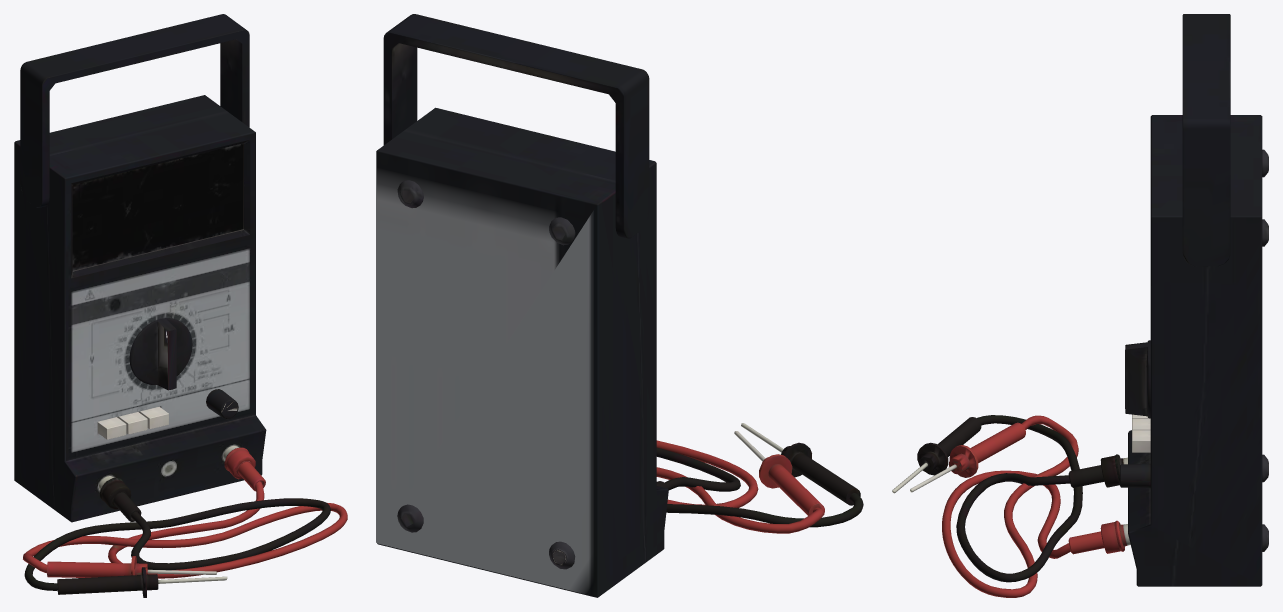
Rendered from retro-multimeter.glb.
3 renders of one model, left to right at view 1: azimuth 30°, elevation 25°; view 2: azimuth 150°, elevation 25°; view 3: azimuth 270°, elevation 25°, orthographic. The views are drawn at different scales.
Parts seen in each view (by area): view 1: retro_multimeter; view 2: retro_multimeter; view 3: retro_multimeter.
Part boxes in pixels (x1,y1,x2,y2): retro_multimeter: [14, 14, 347, 597]; retro_multimeter: [376, 14, 863, 597]; retro_multimeter: [892, 14, 1268, 597].
Bounding box in the file's own units: 0.216 × 0.2786 × 0.2025.
Materials: 2 (2 with a texture image).
